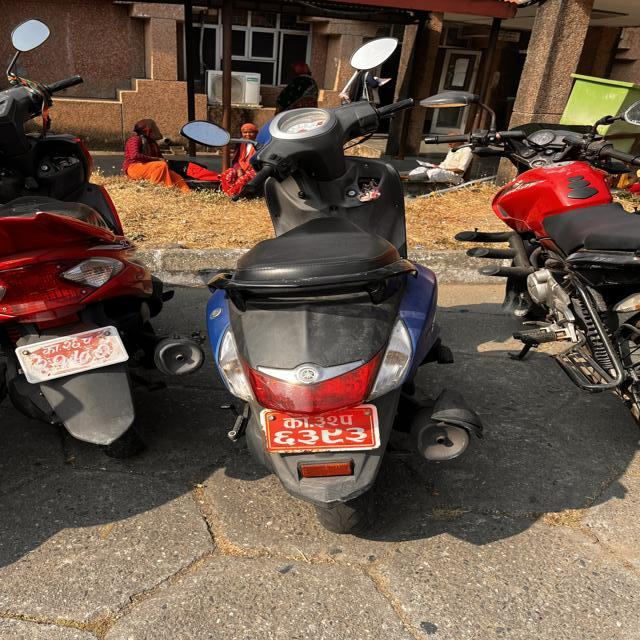license_plate: (213, 400, 432, 485)
